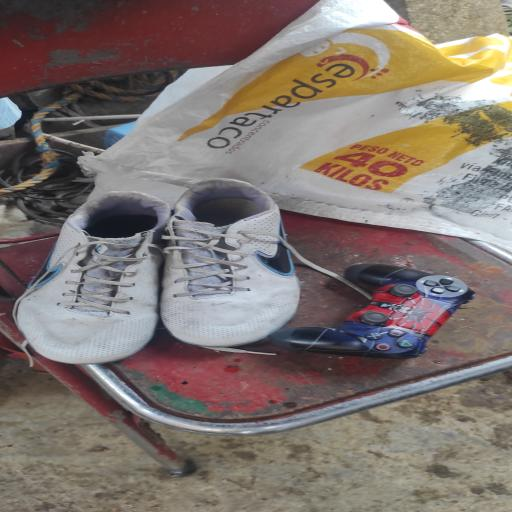ControlPlay4: (271, 264, 473, 359)
